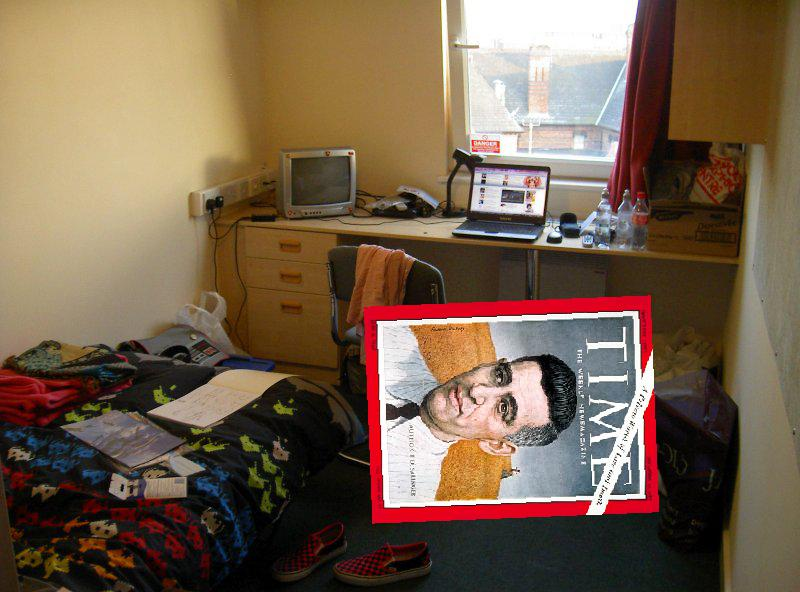times: (360, 294, 660, 530)
